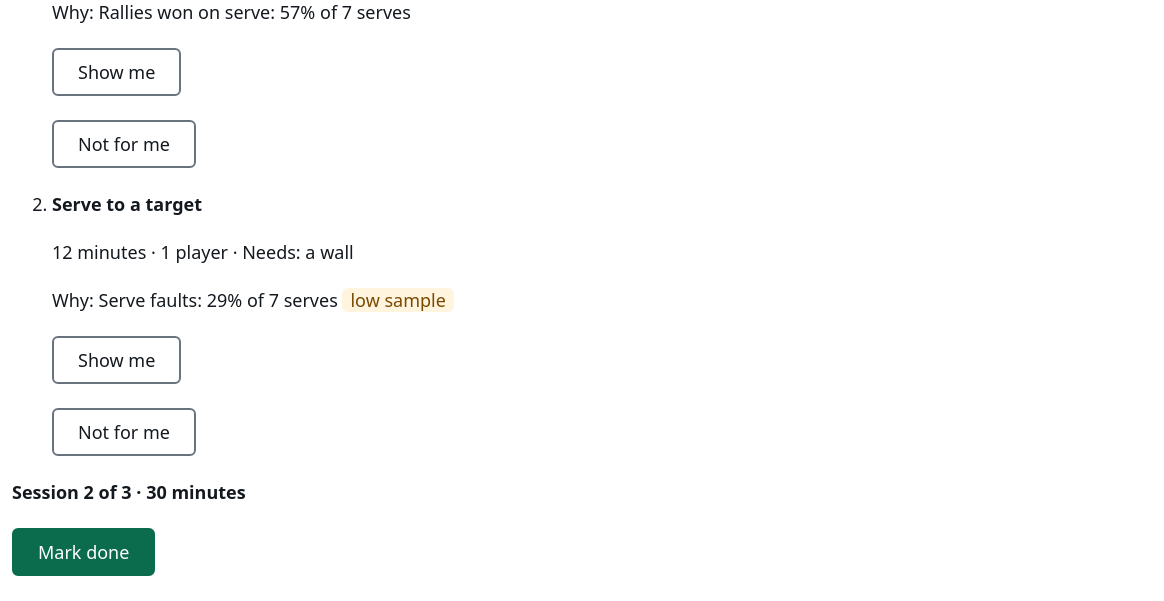
Test: P-01 not found › a cited match that is gone: the plan is fetched again with a polite line
(page scrolled)
Expected: the text "Serve to a target" is shown, 52,192 -> 202,216
Click the button "Show me" below "Serve to a target". click: (117,360)
box: 52,336 -> 181,384
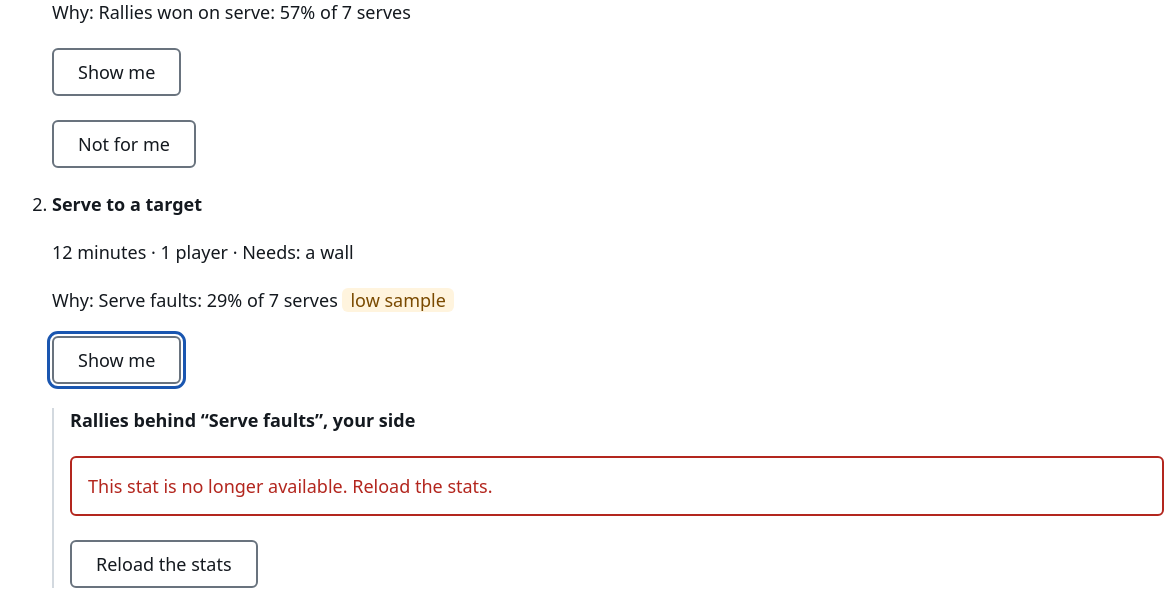
Click the button "Reload the stats". click: (164,564)
box: 70,540 -> 258,588
(page scrolled)
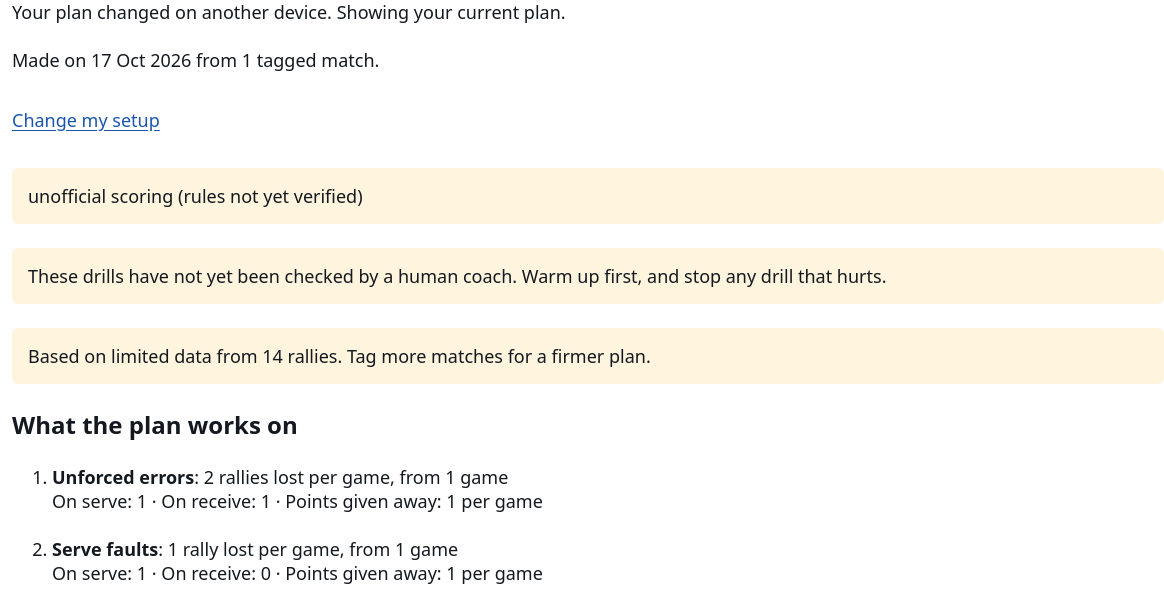
Result: the text "Your plan changed on another device. Showing your current plan." is shown at 12,0 -> 566,24
